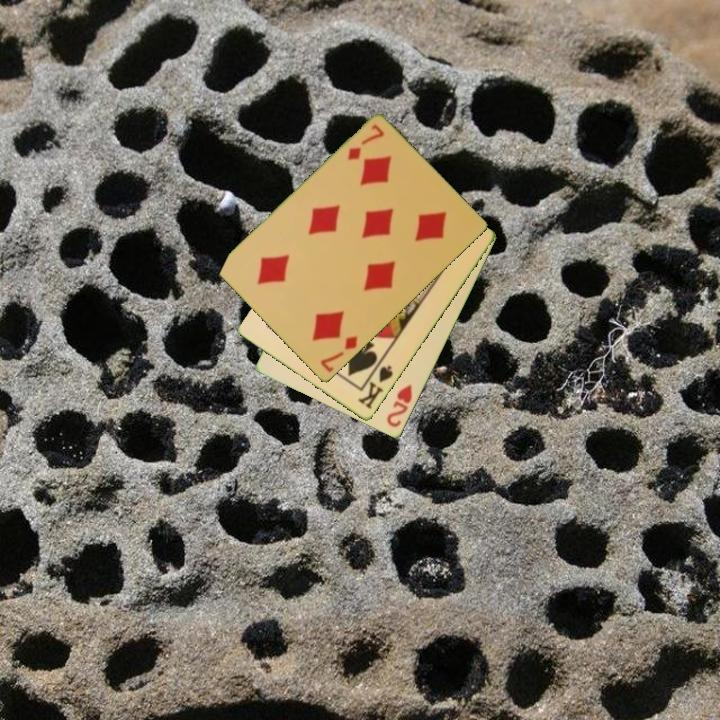2h: (383, 381, 415, 431)
7d: (317, 333, 361, 376), (344, 121, 387, 164)
Ks: (354, 362, 396, 412)
